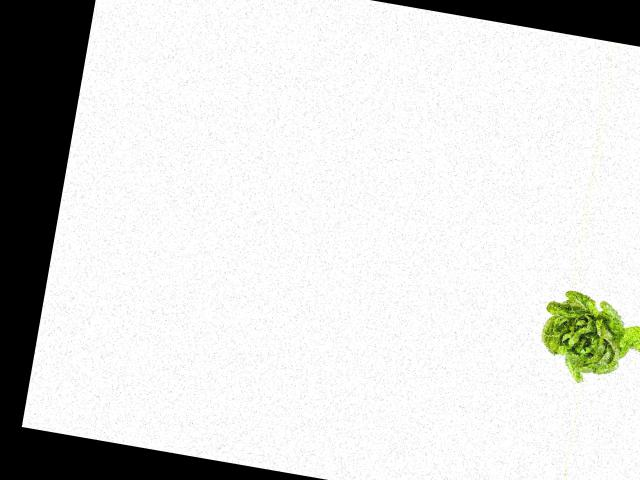lettuce: (533, 289, 640, 394)
